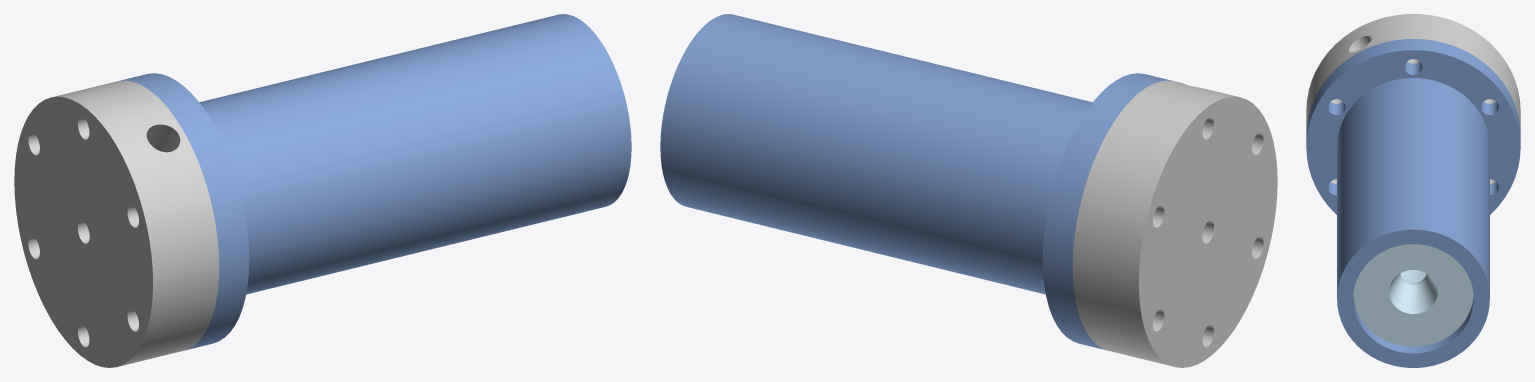
File: pathfinder.glb
3 renders of one model, left to right at view 1: azimuth 30°, elevation 25°; view 2: azimuth 150°, elevation 25°; view 3: azimuth 270°, elevation 25°, orthographic. The views are drawn at different scales.
Visible parts, largest first — view 1: PATHFINDER Block A jacket (304 SS) — CAD BASELINE, NOT QUALI, PATHFINDER Block A injector (303/304 SS) — CAD BASELINE, NOT; view 2: PATHFINDER Block A jacket (304 SS) — CAD BASELINE, NOT QUALI, PATHFINDER Block A injector (303/304 SS) — CAD BASELINE, NOT; view 3: PATHFINDER Block A jacket (304 SS) — CAD BASELINE, NOT QUALI, PATHFINDER Block A copper liner (C145) — CAD BASELINE, NOT Q, PATHFINDER Block A injector (303/304 SS) — CAD BASELINE, NOT.
Part boxes in pixels (x1,y1,x2,y2): PATHFINDER Block A jacket (304 SS) — CAD BASELINE, NOT QUALI: (118,14,631,350); PATHFINDER Block A injector (303/304 SS) — CAD BASELINE, NOT: (14,80,219,367); PATHFINDER Block A jacket (304 SS) — CAD BASELINE, NOT QUALI: (660,14,1173,350); PATHFINDER Block A injector (303/304 SS) — CAD BASELINE, NOT: (1072,80,1277,367); PATHFINDER Block A jacket (304 SS) — CAD BASELINE, NOT QUALI: (1306,39,1520,367); PATHFINDER Block A copper liner (C145) — CAD BASELINE, NOT Q: (1353,244,1473,346); PATHFINDER Block A injector (303/304 SS) — CAD BASELINE, NOT: (1306,14,1520,183).
Size of the model in its own units: 0.1659 by 0.0799 by 0.08.
